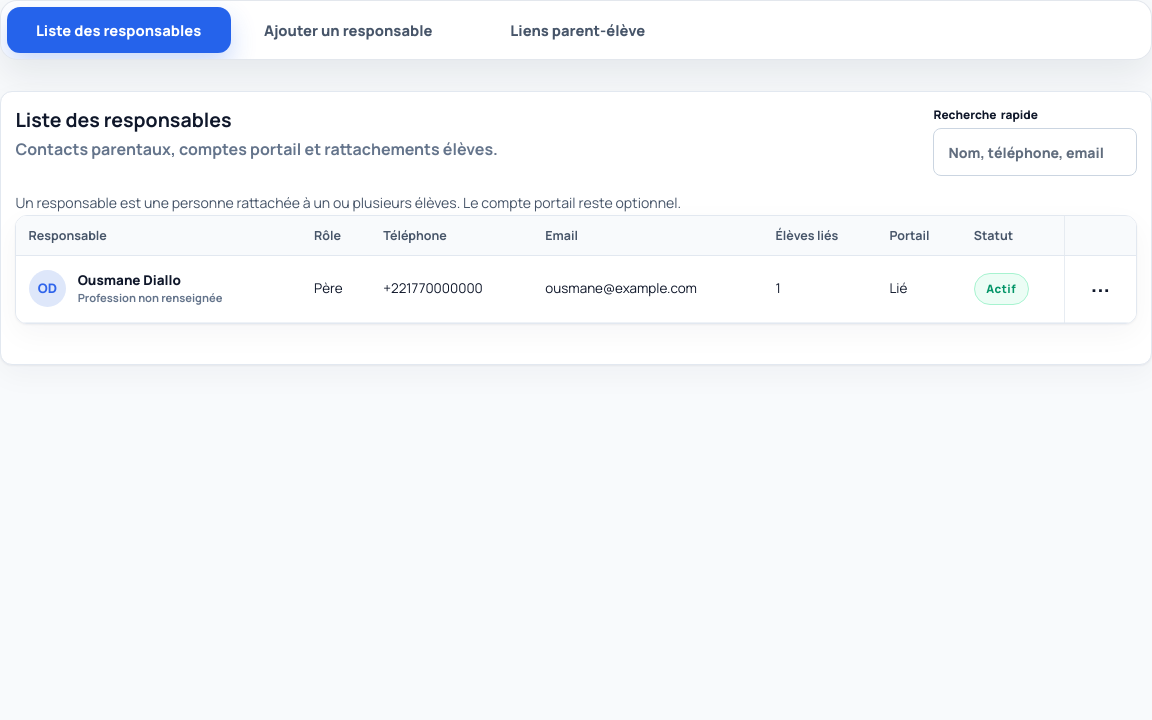
Test: ParentsScreen › structure les liens parent-élève avec rôles métier et cursus en lecture
What coordinates should you click on to do the following:
click the tab "Liens parent-élève"
I would click on:
 (578, 30)
Its box is [466,7,690,53].
(page scrolled)
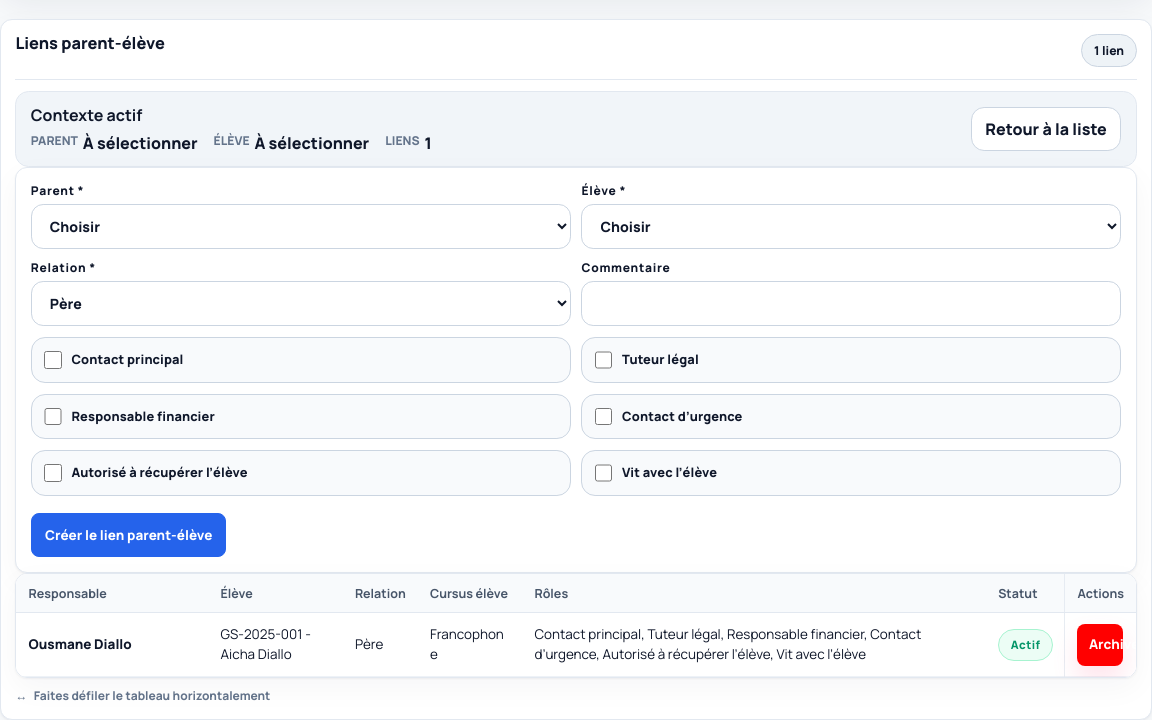
Result: the heading "Liens parent-élève" is shown at [15,34,165,53]
Result: the dropdown labelled "Parent *" is shown at [31,204,571,249]
Result: the dropdown labelled "Élève *" is shown at [582,204,1121,249]
